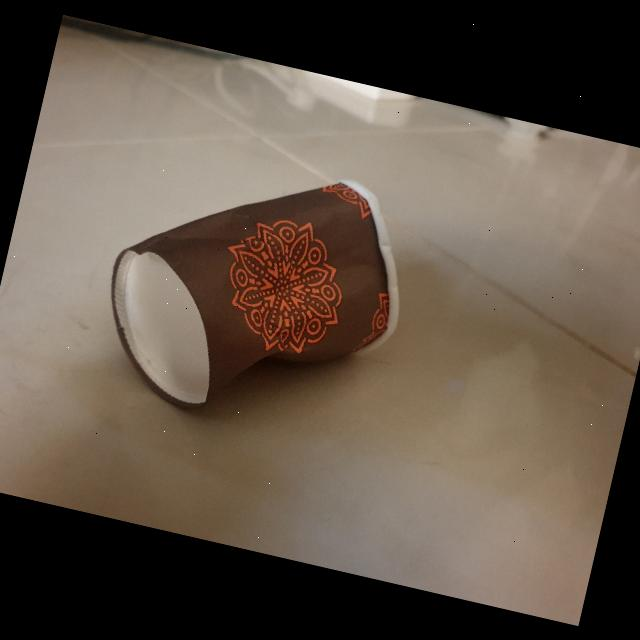trash: (80, 130, 434, 460)
